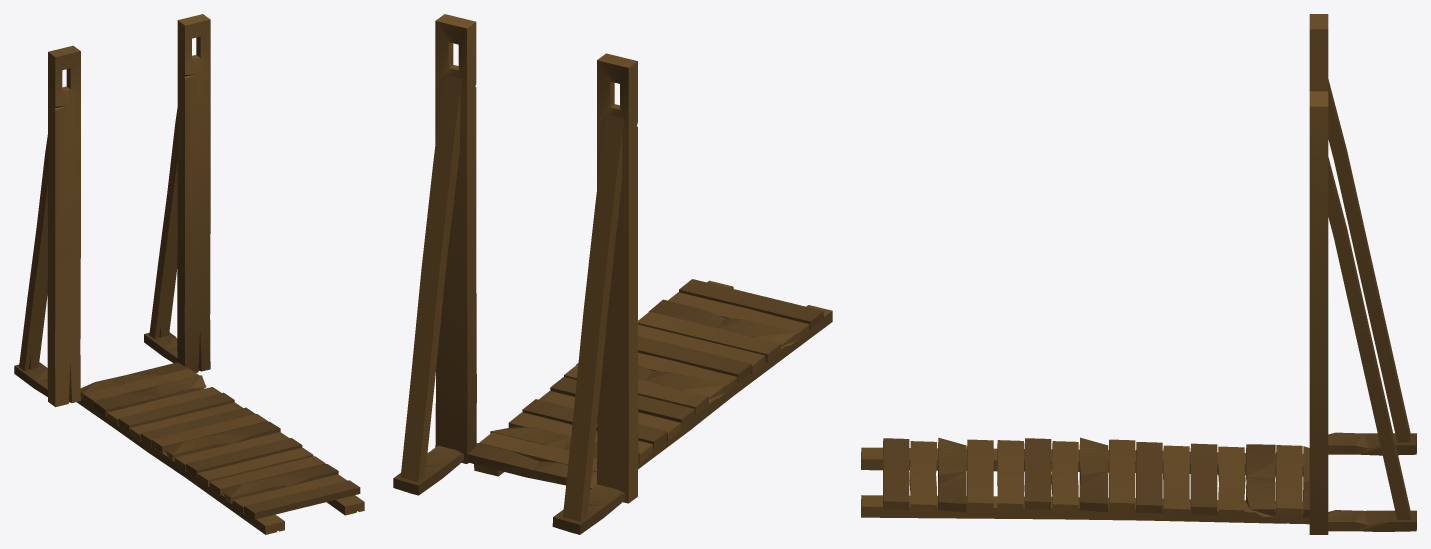
File: FoldingBridge.fbx
3 renders of one model, left to right at view 1: azimuth 30°, elevation 25°; view 2: azimuth 150°, elevation 25°; view 3: azimuth 270°, elevation 25°, orthographic. The views are drawn at different scales.
Visible parts, largest first — view 1: Bridge.002, Bridge; view 2: Bridge.002, Bridge; view 3: Bridge, Bridge.002.
Boxes of the visible parts, left/top/right/bottom form: Bridge.002: left=14, top=14, right=210, bottom=407; Bridge: left=77, top=362, right=364, bottom=534; Bridge.002: left=393, top=14, right=638, bottom=534; Bridge: left=467, top=279, right=832, bottom=489; Bridge: left=861, top=437, right=1309, bottom=524; Bridge.002: left=1309, top=14, right=1416, bottom=534.
Bounding box in the file's own units: 365 × 798 × 924.
